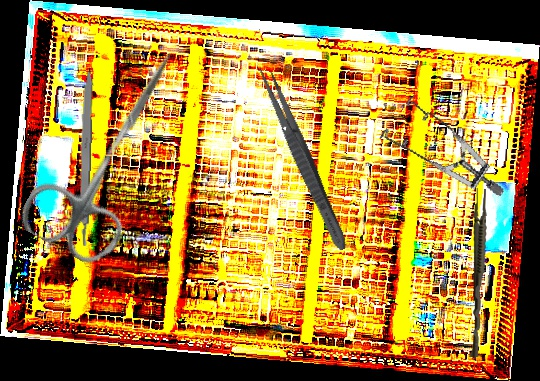Dressing Forceps: (253, 63, 353, 254)
Iris Scissors: (13, 27, 211, 273)
Scalpel Handle: (75, 67, 95, 247)
Speculum: (369, 77, 506, 229)
Tissue Forceps: (469, 188, 488, 358)
